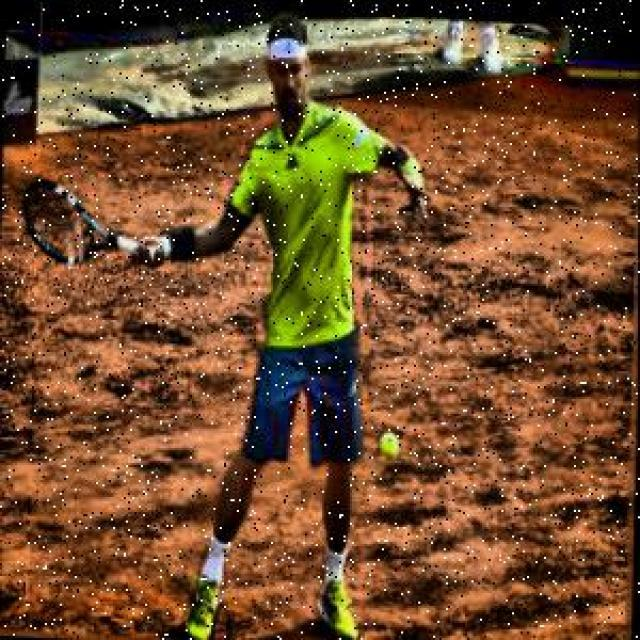tennis-ball: (380, 429, 399, 455)
